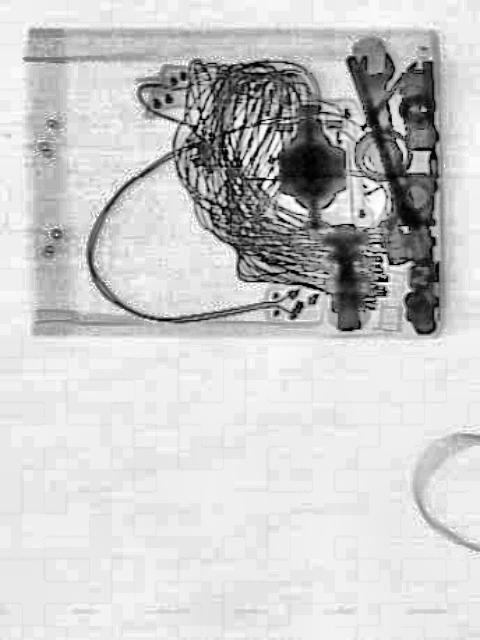Wrench: (352, 44, 428, 240)
